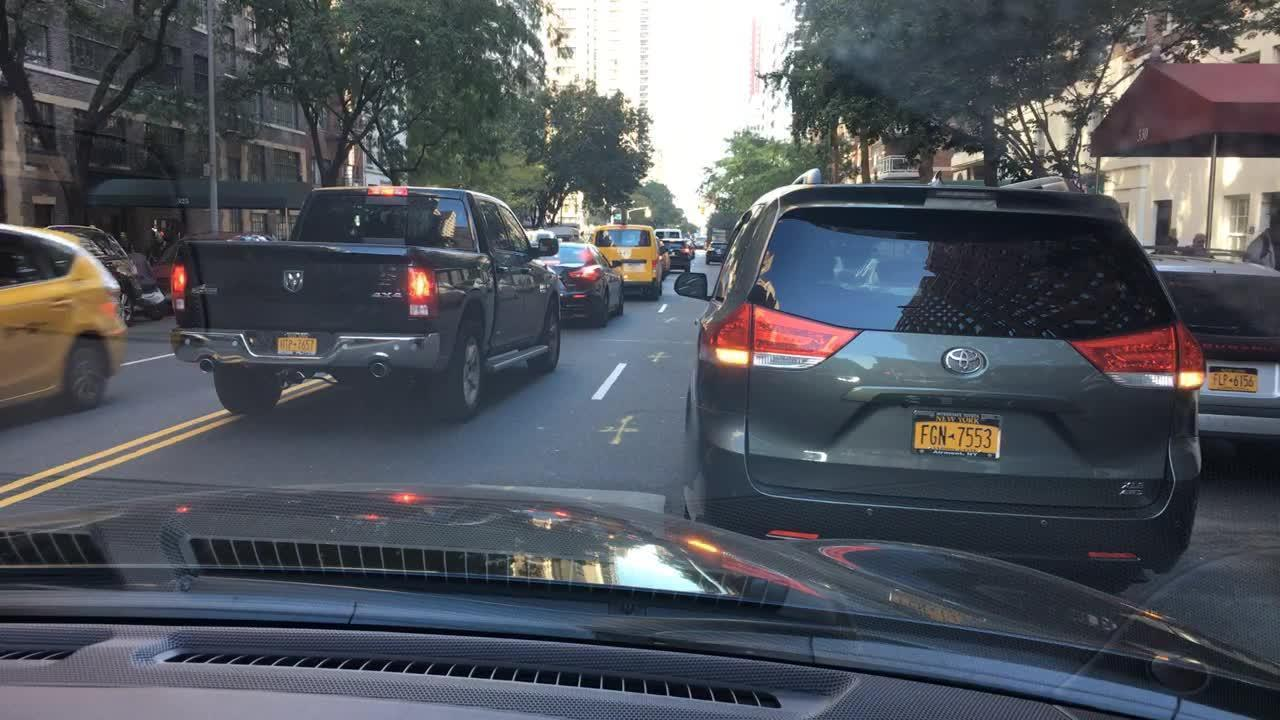Toyota: (939, 342, 988, 379)
ram: (278, 263, 307, 299)
